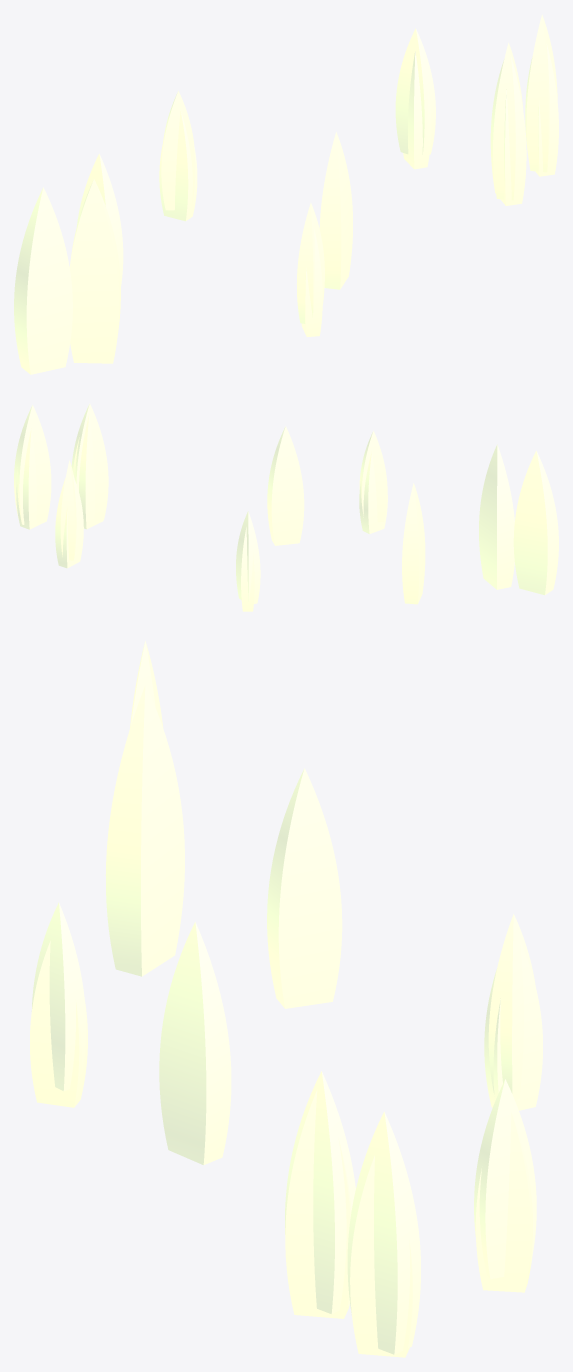
File: tall-grass.gltf
3 renders of one model, top to bottom at view 1: azimuth 30°, elevation 25°; view 2: azimuth 150°, elevation 25°; view 3: azimuth 270°, elevation 25°, orthographic. The views are drawn at different scales.
Parts seen in each view (by area): view 1: Half Blade; view 2: Half Blade; view 3: Half Blade.
Boxes of the visible parts, x1,y1,x2,y2 form: Half Blade: (14,14,558,374); Half Blade: (14,403,558,611); Half Blade: (30,641,542,1357).
Size of the model in its own units: 4.46 by 1.27 by 2.08.
